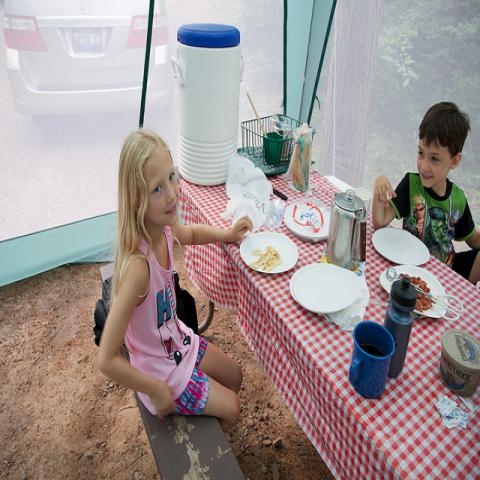car: (4, 2, 174, 124)
